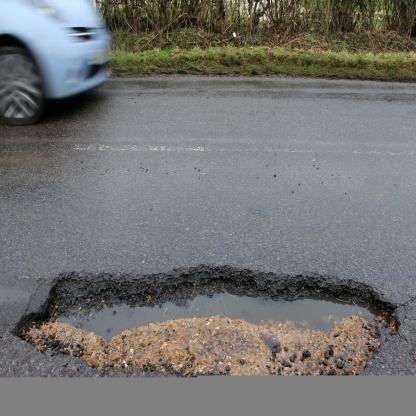pothole: (6, 247, 408, 379)
